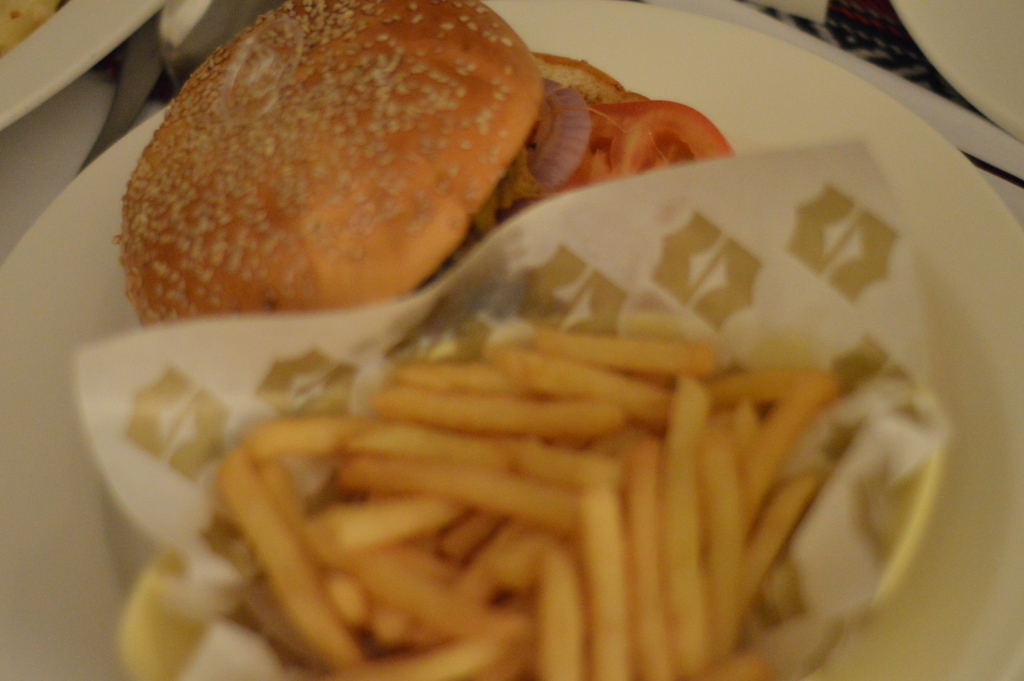French fries: (206, 279, 857, 680)
